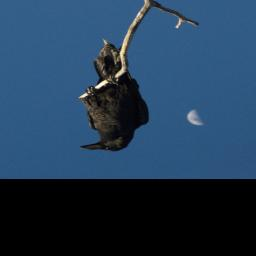Crow: (57, 34, 156, 155)
